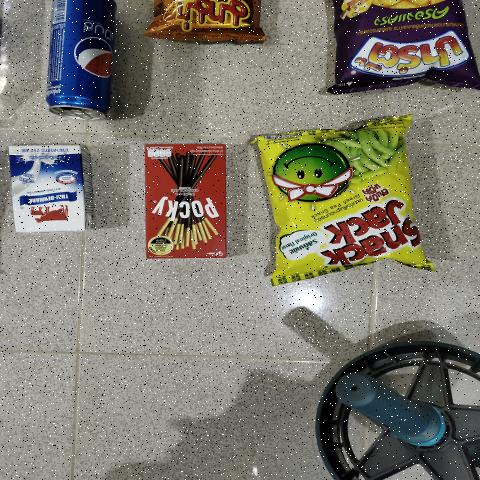pokki: (145, 142, 227, 258)
snack_jack: (270, 132, 420, 267)
thai_denmark: (8, 143, 91, 230)
